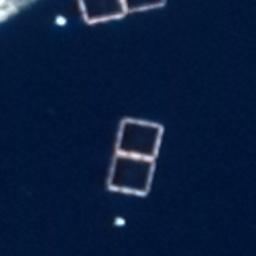square_solid: (100, 148, 159, 201), (109, 110, 165, 165), (71, 1, 132, 27)
